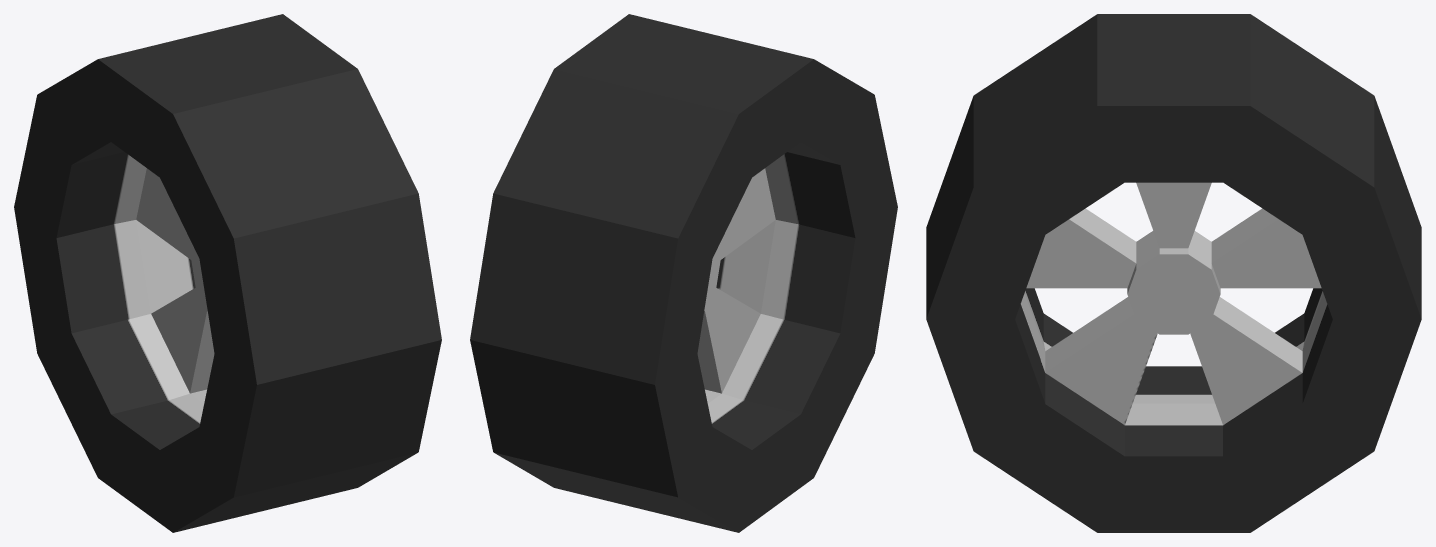
Rendered from Wheel.fbx.
The picture shows the model from 3 angles, left to right: view 1: azimuth 30°, elevation 25°; view 2: azimuth 150°, elevation 25°; view 3: azimuth 270°, elevation 25°; orthographic projection.
Parts seen in each view (by area): view 1: Wheel; view 2: Wheel; view 3: Wheel.
Boxes of the visible parts, left/top/right/bottom form: Wheel: left=14, top=14, right=441, bottom=532; Wheel: left=470, top=14, right=897, bottom=532; Wheel: left=926, top=14, right=1421, bottom=532.
Bounding box in the file's own units: 0.3628 × 0.785 × 0.8254.
